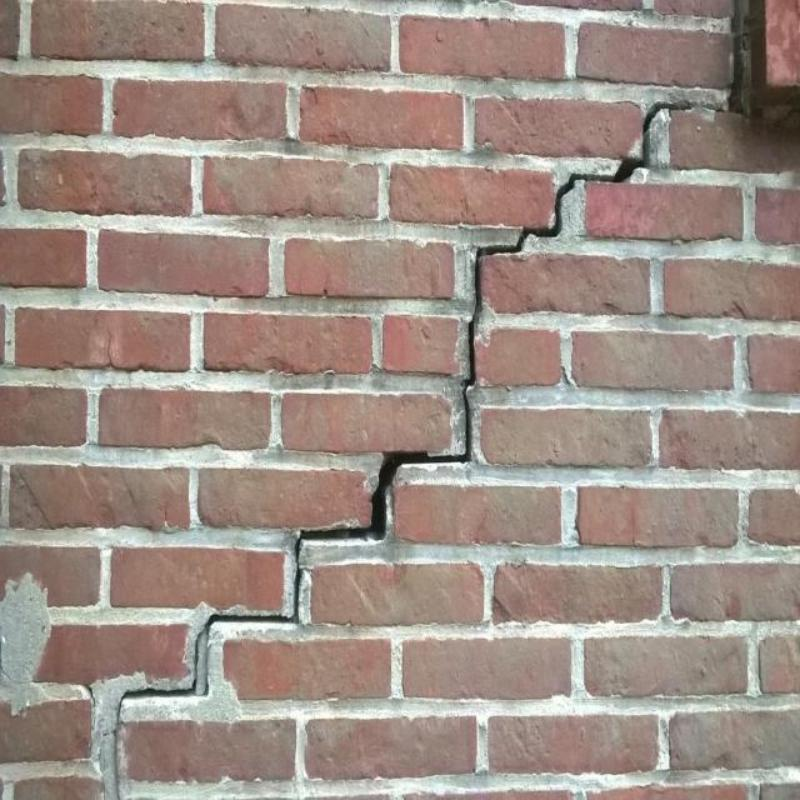pothole: (208, 0, 744, 624), (115, 623, 212, 799), (106, 331, 114, 365), (84, 684, 95, 706)
